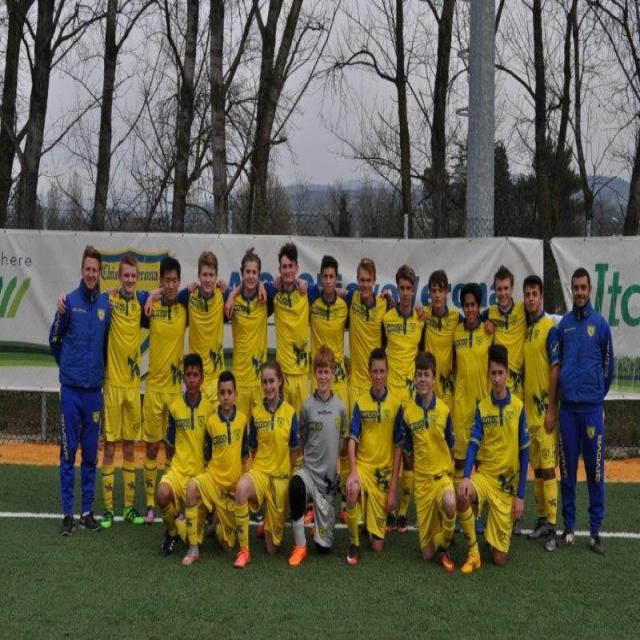body: (105, 253, 229, 522), (56, 248, 166, 532), (222, 240, 346, 477), (187, 245, 310, 440), (414, 278, 496, 538), (47, 241, 115, 545), (142, 248, 269, 410), (453, 341, 532, 577), (555, 265, 617, 556), (178, 366, 253, 569), (396, 347, 462, 577), (334, 256, 427, 418), (286, 339, 349, 569), (342, 343, 406, 569), (233, 359, 300, 569), (378, 263, 428, 536), (154, 350, 217, 559), (520, 272, 562, 554), (416, 268, 466, 416), (479, 262, 530, 402), (307, 253, 350, 393)
